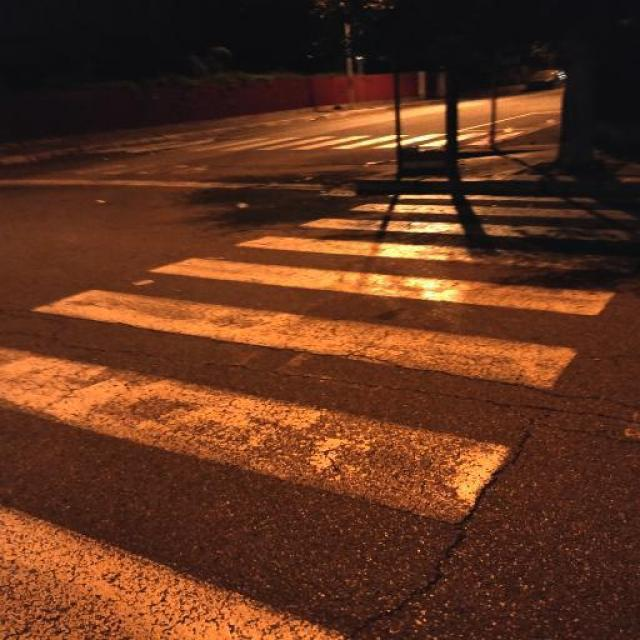crosswalk: (1, 187, 639, 639), (95, 135, 515, 152)
